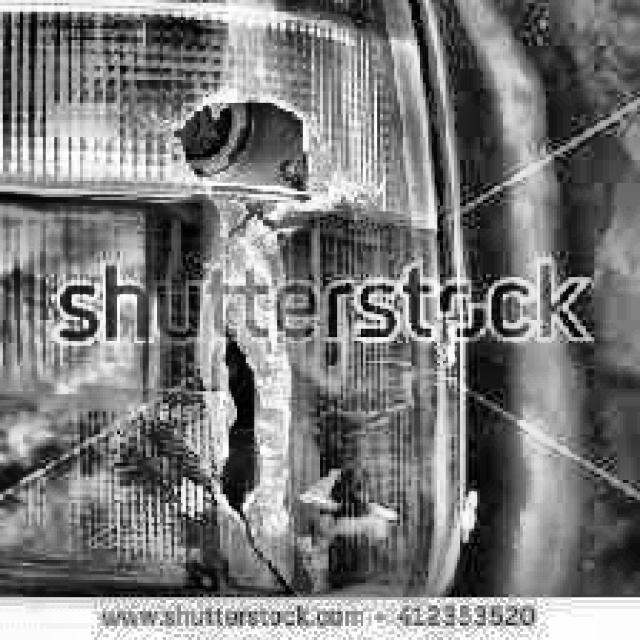tail_lamp: (182, 109, 310, 531)
